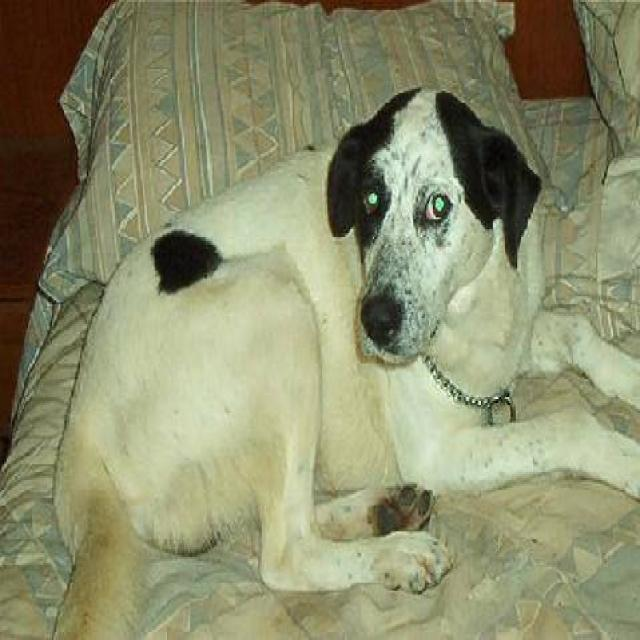adult_dog: (39, 83, 640, 640)
